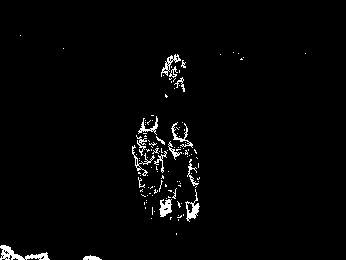person: (162, 120, 204, 224), (133, 111, 168, 221)
